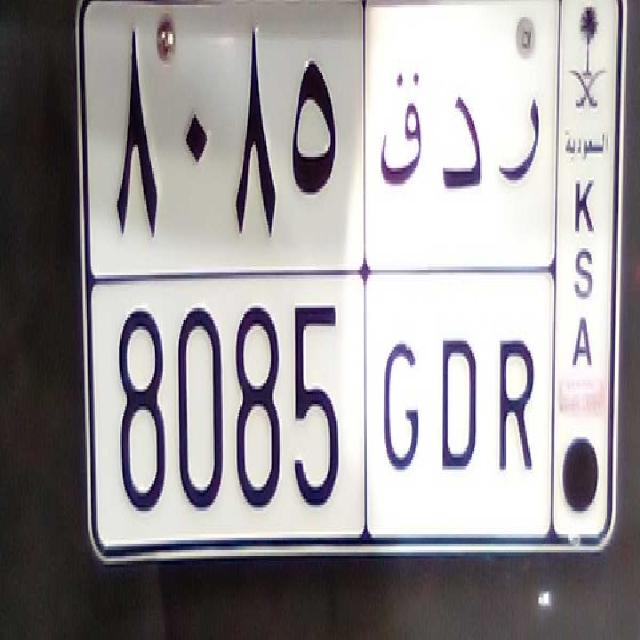license_plate: (99, 274, 546, 539)
